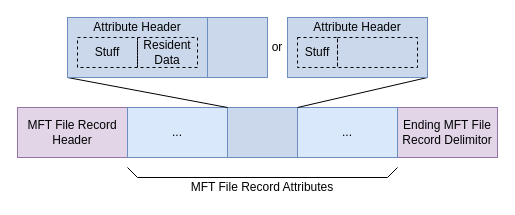
Image size: 515x215. Some labels were removed from this diagram. Each missing label, with the centre of its shape:
"Attribute" goes at pixel 262 132.
"Non Resident Data" goes at pixel 377 52.
"Resident Attribute Content" goes at pixel 237 47.
